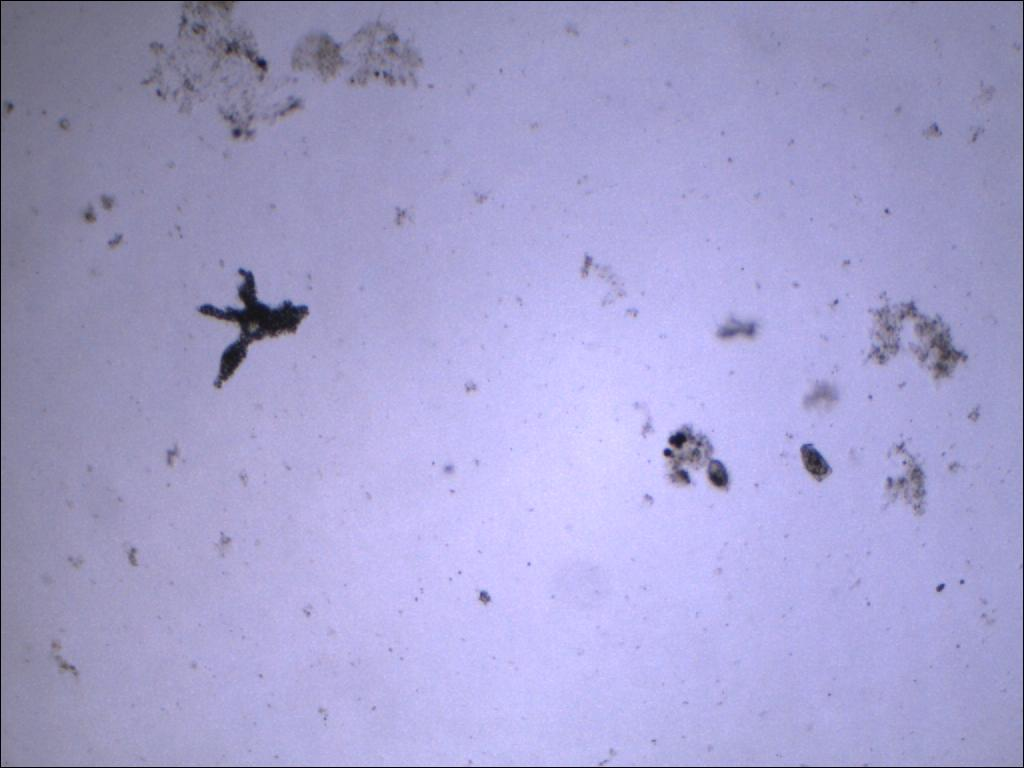amoeba: (192, 262, 318, 395)
